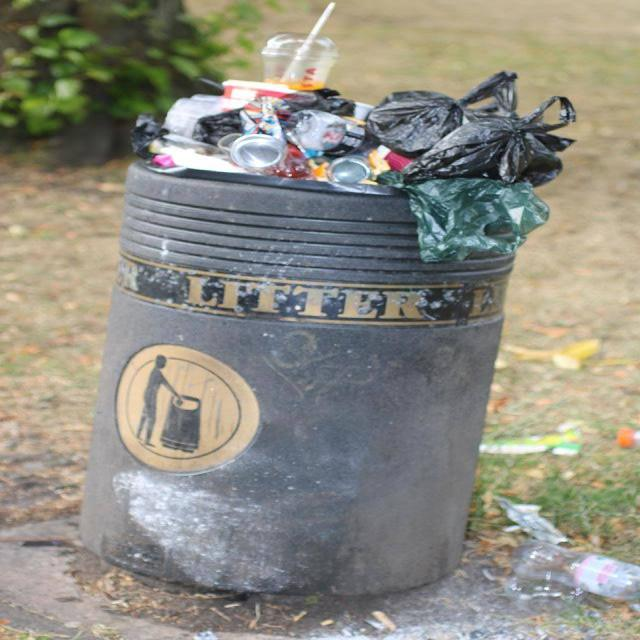plastic: (262, 34, 339, 90), (231, 134, 293, 168)
trash: (383, 96, 572, 175)
